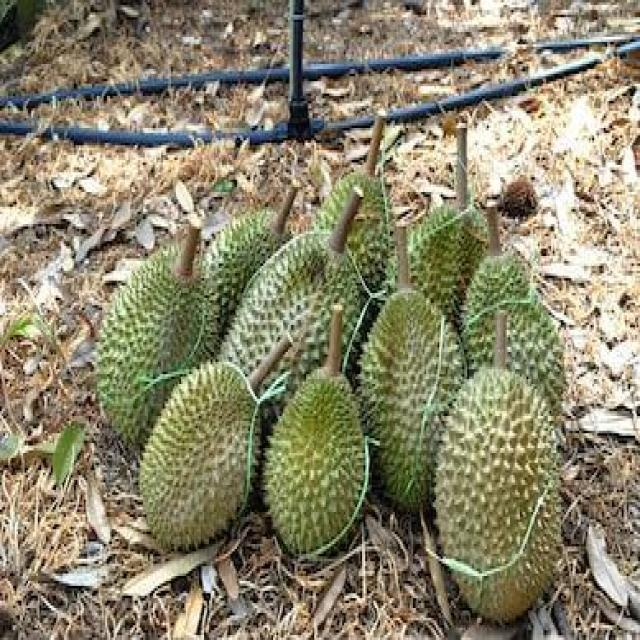immature: (219, 222, 361, 416), (93, 239, 219, 453), (356, 286, 467, 514), (261, 365, 370, 561)
mature: (431, 360, 563, 631), (137, 357, 261, 553)
